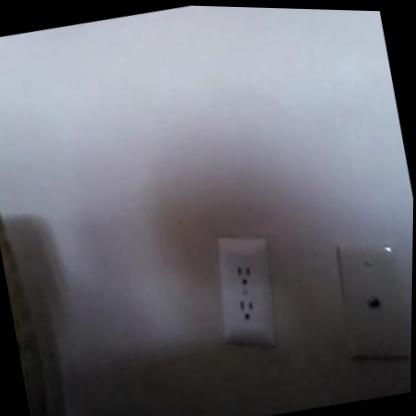OUTLET: (203, 227, 285, 347)
